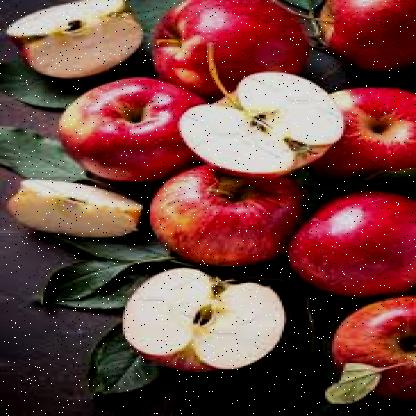apple: (157, 160, 309, 270), (53, 80, 202, 177), (150, 5, 307, 89), (294, 191, 414, 295)
damaged_apple: (120, 262, 288, 370), (186, 74, 343, 172), (5, 0, 150, 78), (5, 170, 143, 242)
